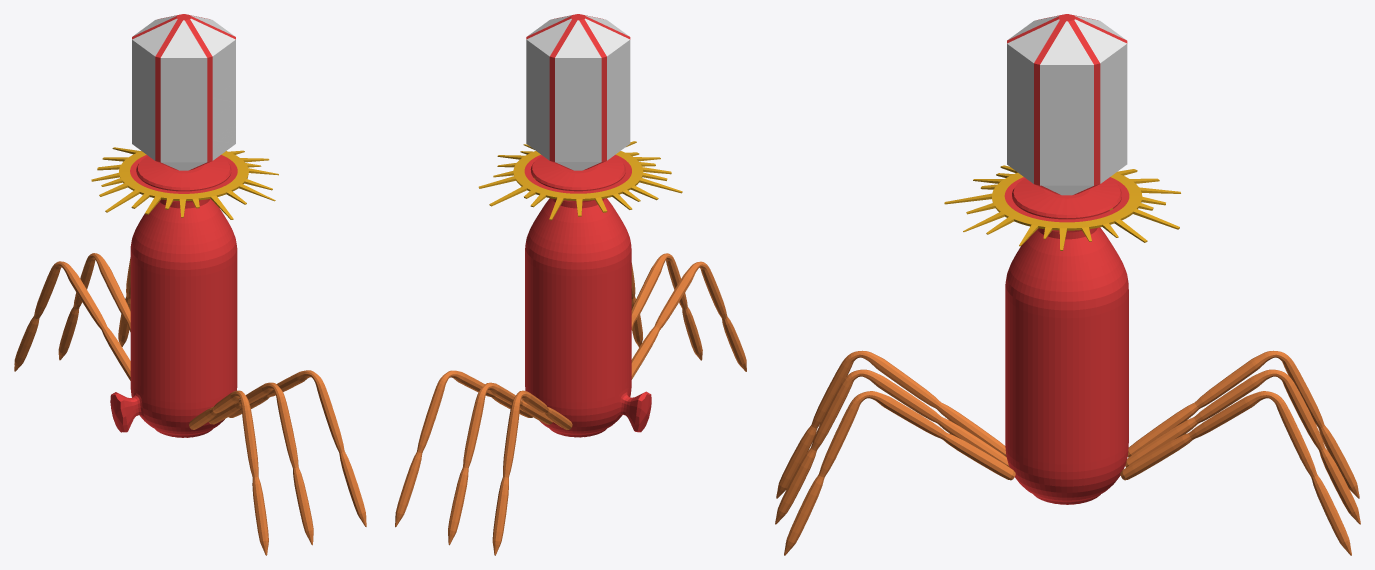
File: Catalizor Animated.fbx
3 renders of one model, left to right at view 1: azimuth 30°, elevation 25°; view 2: azimuth 150°, elevation 25°; view 3: azimuth 270°, elevation 25°, orthographic. The views are drawn at different scales.
Visible parts, largest first — view 1: Body, Leg Right Back, Leg Left Back, Leg Left Middle, Leg Left Front, Leg Right Middle, Leg Right Front; view 2: Body, Leg Left Back, Leg Right Back, Leg Right Middle, Leg Right Front, Leg Left Middle; view 3: Body, Leg Right Front, Leg Left Front, Leg Right Middle, Leg Left Middle, Leg Right Back, Leg Left Back.
Part boxes in pixels (x1,y1,x2,y2): Body: [91, 14, 278, 437]; Leg Right Back: [14, 261, 130, 380]; Leg Left Back: [189, 390, 268, 555]; Leg Left Middle: [208, 382, 313, 545]; Leg Left Front: [228, 370, 366, 526]; Leg Right Middle: [58, 253, 130, 360]; Leg Right Front: [118, 257, 130, 346]; Body: [478, 14, 682, 437]; Leg Left Back: [631, 261, 746, 379]; Leg Right Back: [492, 390, 572, 555]; Leg Right Middle: [448, 382, 552, 545]; Leg Right Front: [395, 370, 532, 527]; Leg Left Middle: [631, 253, 702, 360]; Body: [944, 14, 1180, 504]; Leg Right Front: [1120, 391, 1351, 555]; Leg Left Front: [784, 391, 1015, 555]; Leg Right Middle: [1125, 369, 1360, 524]; Leg Left Middle: [775, 369, 1009, 524]; Leg Right Back: [1127, 350, 1359, 498]; Leg Left Back: [776, 350, 1006, 498].
Bounding box in the file's own units: 374 × 896 × 941.
